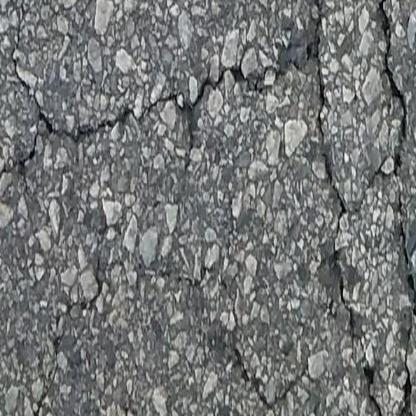Cracks: (276, 0, 416, 416), (0, 64, 253, 205), (20, 256, 108, 416), (375, 0, 412, 148), (233, 344, 307, 414), (168, 263, 233, 294)
